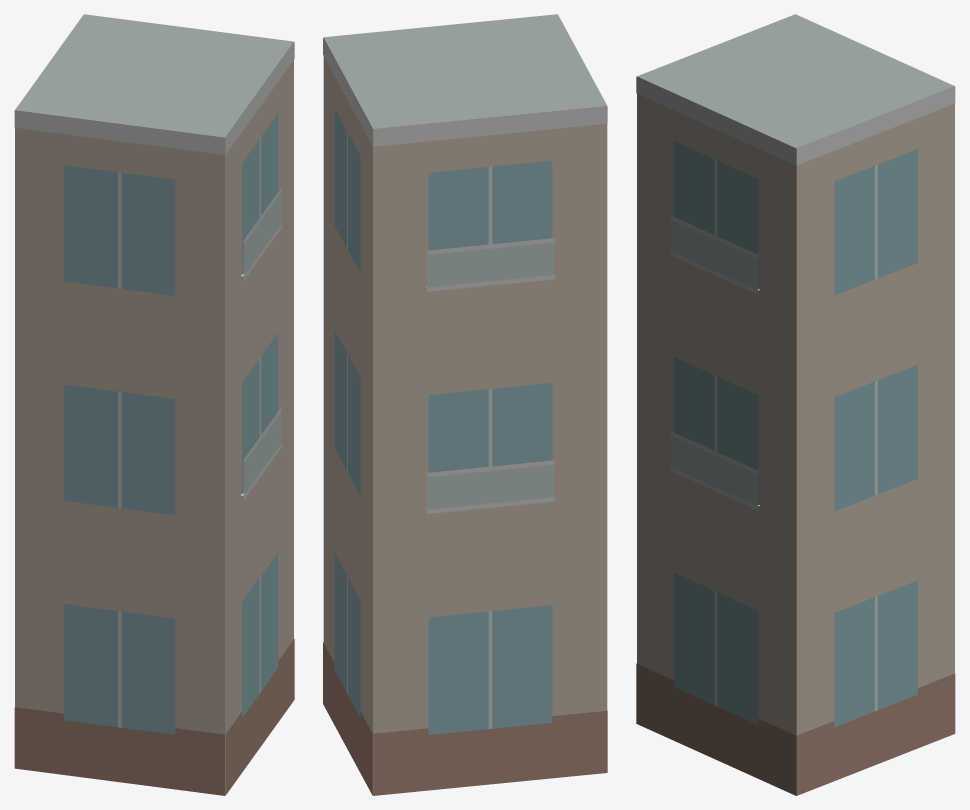
Rendered from survey-upis-32949066.glb.
The picture shows the model from 3 angles, left to right: view 1: azimuth 30°, elevation 25°; view 2: azimuth 150°, elevation 25°; view 3: azimuth 270°, elevation 25°; orthographic projection. The views are drawn at different scales.
Parts seen in each view (by area): view 1: survey-upis-32949066.tmp; view 2: survey-upis-32949066.tmp; view 3: survey-upis-32949066.tmp.
Boxes of the visible parts, left/top/right/bottom form: survey-upis-32949066.tmp: left=14, top=14, right=294, bottom=795; survey-upis-32949066.tmp: left=323, top=14, right=607, bottom=795; survey-upis-32949066.tmp: left=636, top=14, right=955, bottom=795.
Bounding box in the file's own units: 4.08 × 9.15 × 4.09.
